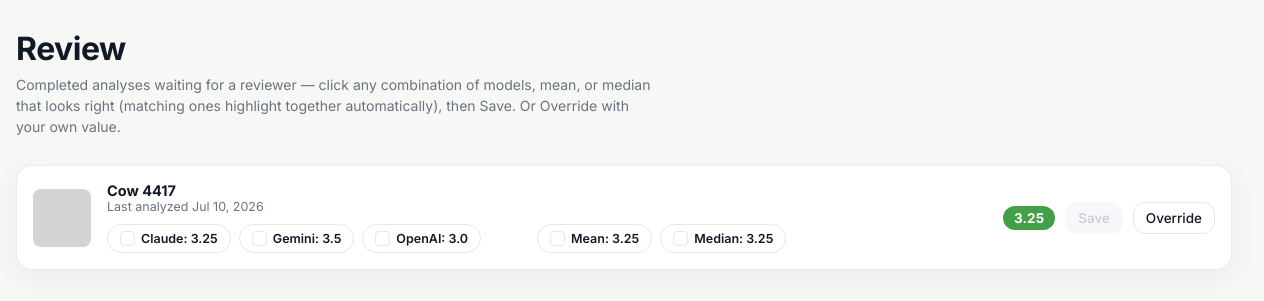
Test: ReviewPage › shows an error toast when overriding fails
Expected: the text "Cow 4417" is shown, [107, 182, 176, 199]
Click the button "Override" at (1174, 218), box [1133, 202, 1215, 234]
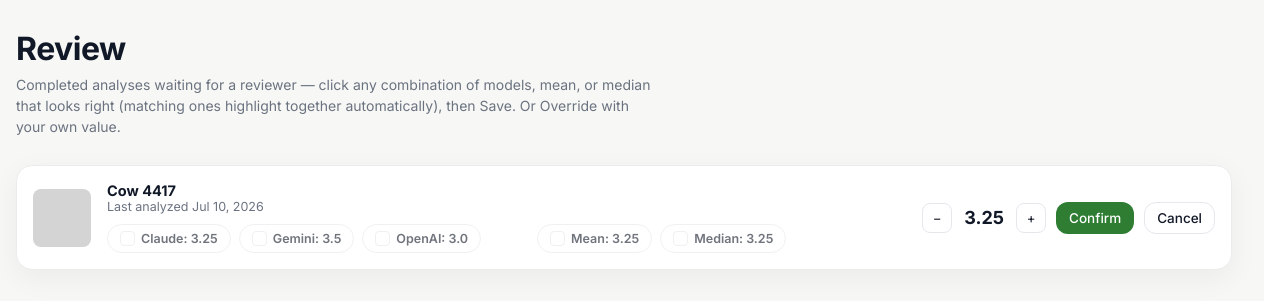
Click the button "Confirm" at (1095, 218), box [1056, 202, 1134, 234]
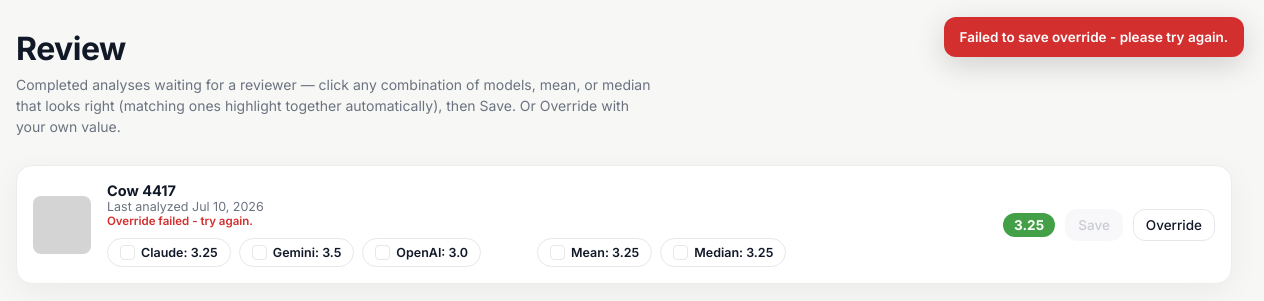
Expected: the text "Cow 4417" is shown, [107, 182, 176, 199]
Result: the text "Failed to save override - please try again." is shown at [960, 29, 1228, 45]
